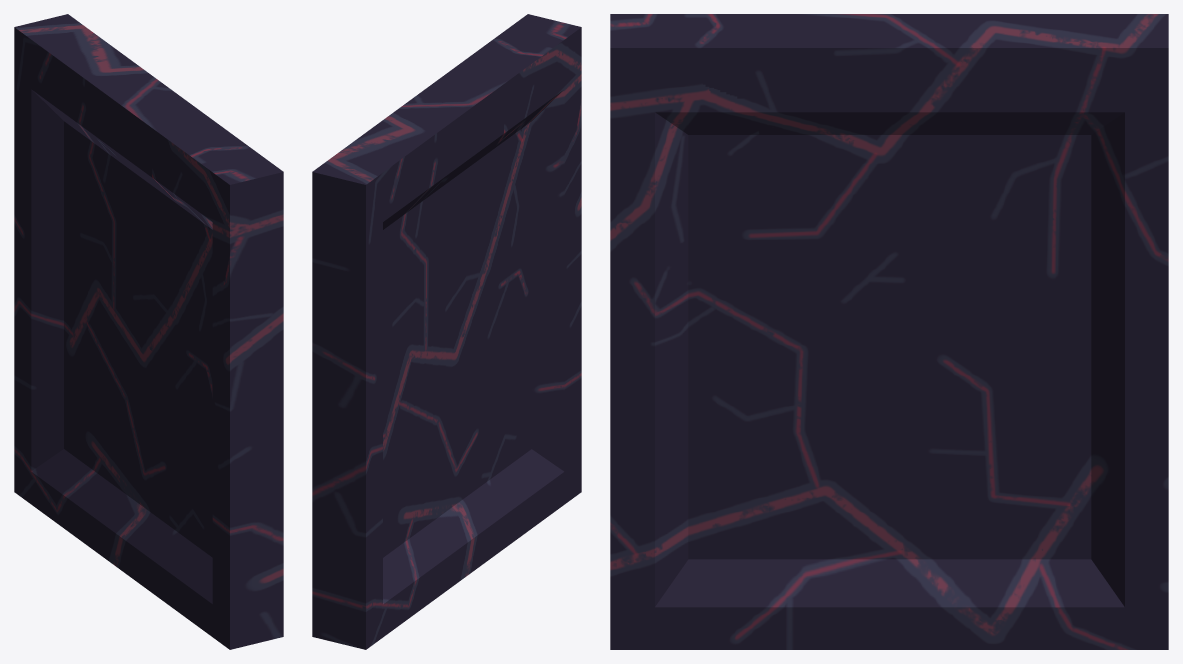
The model's file is Wall.obj.
3 views of the same model, side by side, from view 1: azimuth 30°, elevation 25°; view 2: azimuth 150°, elevation 25°; view 3: azimuth 270°, elevation 25° (orthographic). The views are drawn at different scales.
Parts seen in each view (by area): view 1: Wall_2 pan Base Tenple; view 2: Wall_2 pan Base Tenple; view 3: Wall_2 pan Base Tenple.
Boxes of the visible parts, x1,y1,x2,y2 form: Wall_2 pan Base Tenple: (14, 14, 283, 649); Wall_2 pan Base Tenple: (312, 14, 581, 649); Wall_2 pan Base Tenple: (610, 14, 1168, 649).
Bounding box in the file's own units: 0.8942 × 7.39 × 6.21.
1 material, 1 textured.
